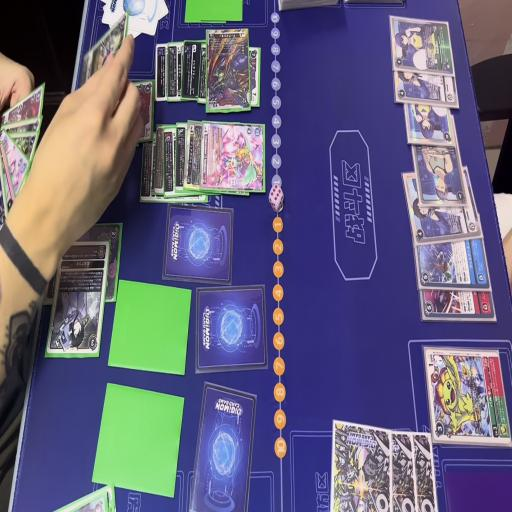card: (419, 342, 512, 446), (44, 240, 110, 364), (44, 217, 126, 305), (402, 166, 480, 244), (203, 122, 268, 194), (413, 232, 495, 288), (74, 11, 130, 92), (204, 26, 251, 120), (198, 40, 262, 109), (388, 14, 458, 75), (413, 142, 465, 211), (393, 62, 459, 112), (416, 283, 496, 323), (139, 125, 171, 205), (0, 79, 45, 128), (404, 103, 456, 144), (0, 124, 27, 192), (186, 120, 207, 195), (182, 35, 204, 103), (60, 485, 112, 512), (8, 128, 41, 170), (130, 80, 153, 136), (163, 122, 178, 200), (154, 41, 172, 101), (153, 117, 166, 196), (169, 39, 186, 98), (0, 116, 45, 135), (176, 118, 186, 192)
